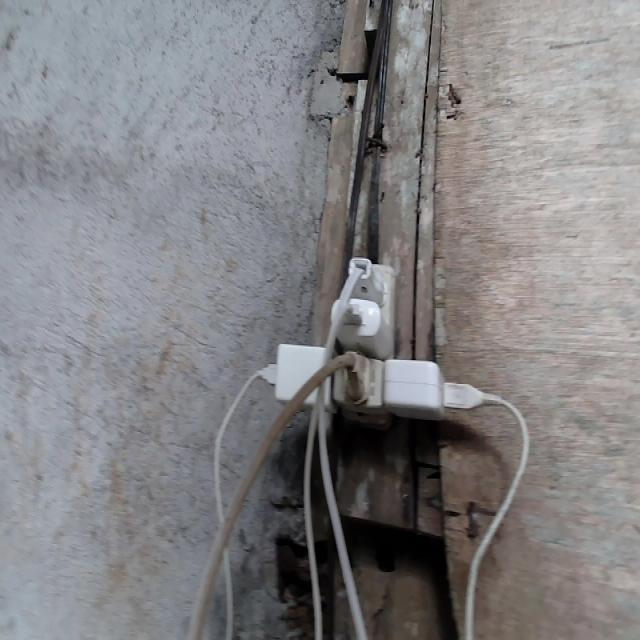-: (266, 253, 469, 427)
